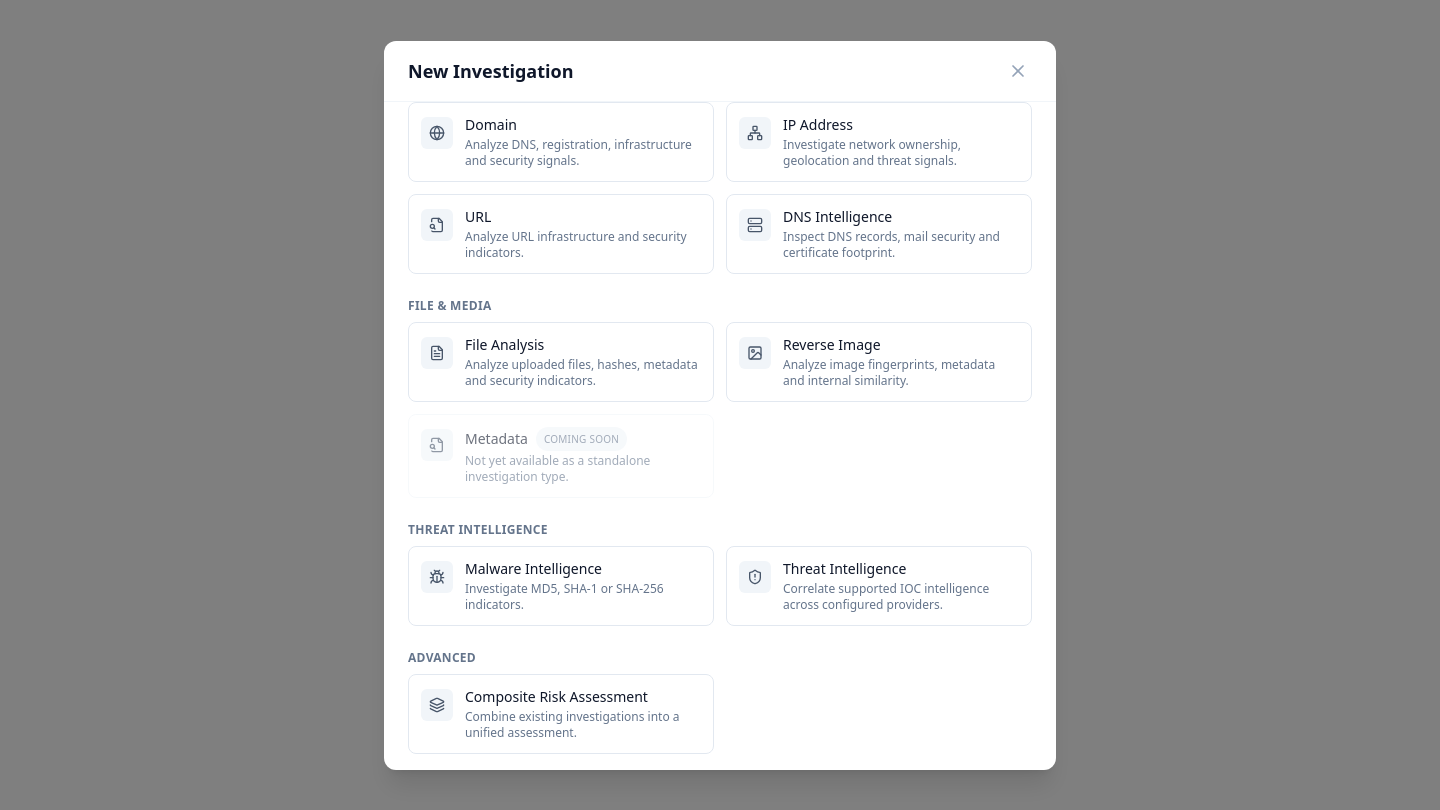
Scenario: NewInvestigationModal › detects and displays the malware hash type as the user types
(page scrolled)
Click the button with aria-label "Start a Malware Intelligence investigation" at [561, 586], box top-left (408, 546), bottom-right (714, 626)
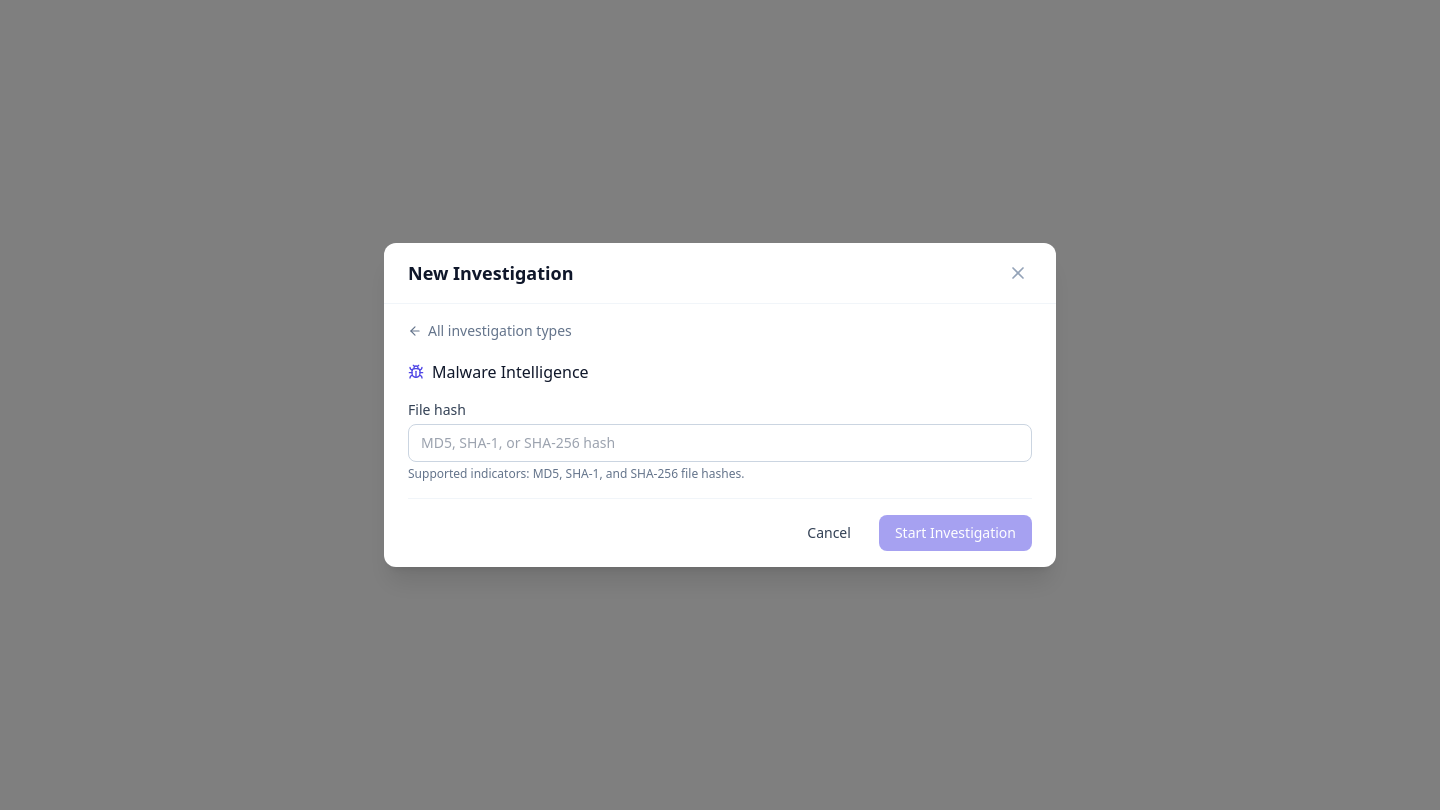
Type "d41d8cd98f00b204e9800998ecf8427e" into the field labelled "File hash" at [720, 443], box top-left (408, 424), bottom-right (1032, 462)
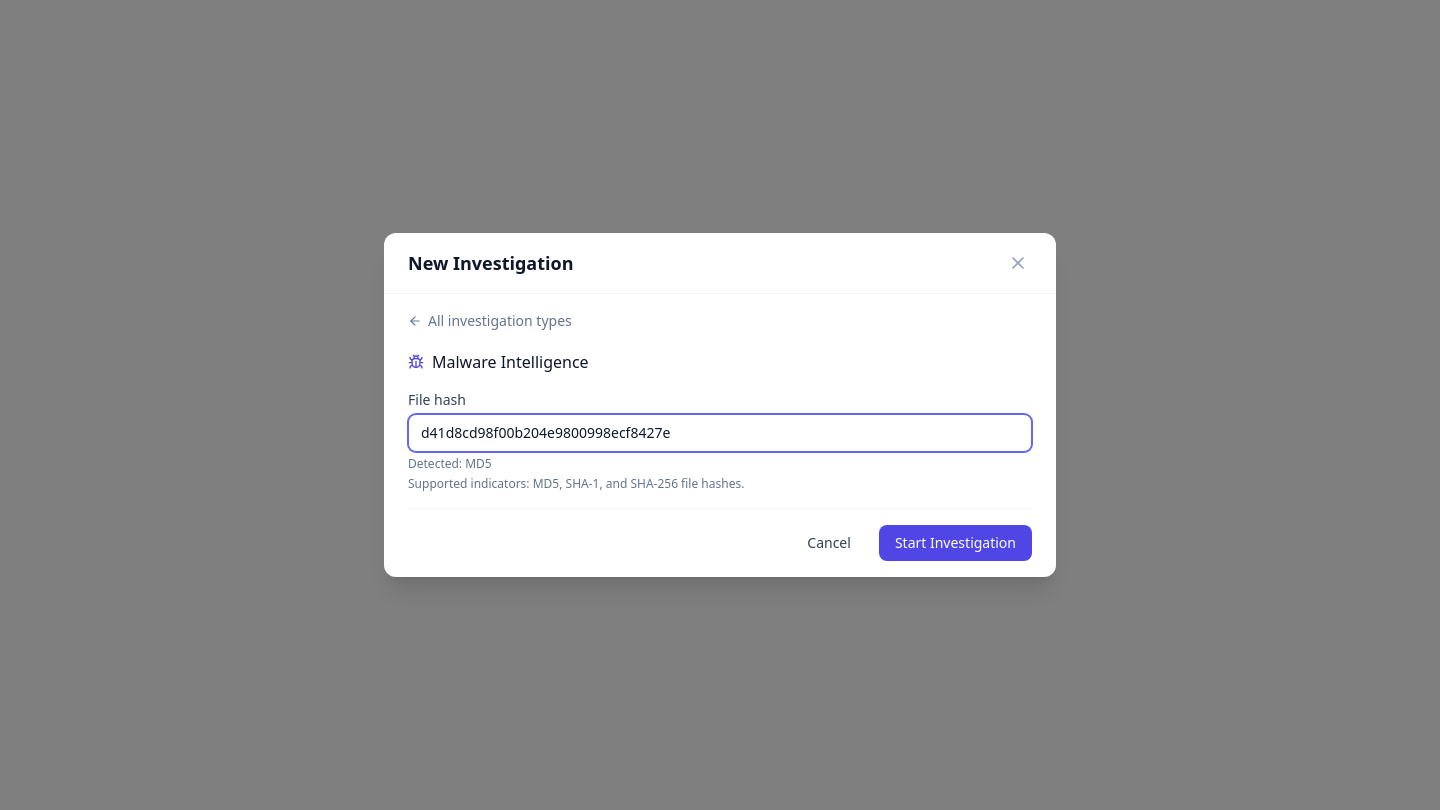
Check: the text "MD5" is shown, box top-left (465, 455), bottom-right (492, 472)
Check: the button "Start Investigation" is enabled, box top-left (879, 525), bottom-right (1032, 561)
